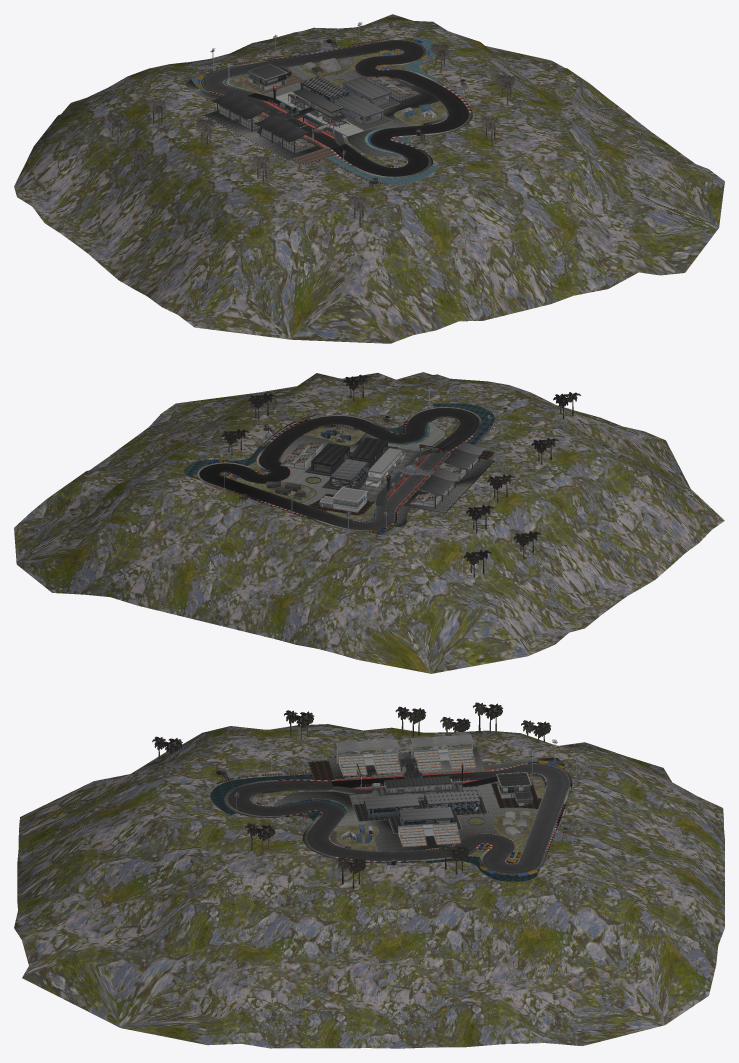
The model's file is testMap0.glb.
3 renders of one model, top to bottom at view 1: azimuth 30°, elevation 25°; view 2: azimuth 150°, elevation 25°; view 3: azimuth 270°, elevation 25°, orthographic. The views are drawn at different scales.
Visible parts, largest first — view 1: Object_5, Object_17, Object_19, Object_18, Object_32, Object_24, Object_25, Object_20, Object_22, Object_23, Object_3, Object_21 (+4 smaller); view 2: Object_5, Object_17, Object_19, Object_18, Object_24, Object_32, Object_25, Object_22, Object_23, Object_21, Object_20, Object_39 (+3 smaller); view 3: Object_5, Object_17, Object_19, Object_18, Object_24, Object_25, Object_32, Object_39, Object_37, Object_38, Object_20, Object_21 (+5 smaller).
Boxes of the visible parts, x1,y1,x2,y2 form: Object_5: (14,14,724,343); Object_17: (192,37,472,184); Object_19: (185,66,447,160); Object_18: (184,66,439,164); Object_32: (211,90,309,154); Object_24: (106,43,516,175); Object_25: (154,99,500,226); Object_20: (335,94,383,124); Object_22: (248,63,291,90); Object_23: (342,77,391,106); Object_3: (298,51,408,84); Object_21: (300,76,348,103); Object_5: (14,372,724,673); Object_17: (184,403,494,534); Object_19: (280,422,493,534); Object_18: (281,422,494,534); Object_24: (221,393,541,577); Object_32: (418,441,486,508); Object_25: (343,374,580,529); Object_22: (319,487,367,512); Object_23: (311,443,350,473); Object_21: (330,458,368,488); Object_20: (349,437,388,467); Object_39: (280,441,323,469); Object_5: (14,724,724,1048); Object_17: (210,752,572,881); Object_19: (274,748,563,851); Object_18: (274,748,564,850); Object_24: (336,702,551,888); Object_25: (152,706,497,853); Object_32: (336,734,475,763); Object_39: (398,822,461,847); Object_37: (338,751,401,776); Object_38: (413,747,476,771); Object_20: (363,793,419,818); Object_21: (424,790,480,812).
Size of the model in its own units: 428 by 76.37 by 434.
34 materials, 34 textured.
